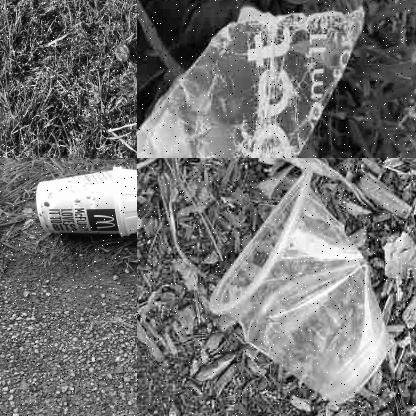plastic: (209, 164, 396, 412), (137, 1, 368, 157), (31, 164, 136, 239), (114, 41, 130, 62)
